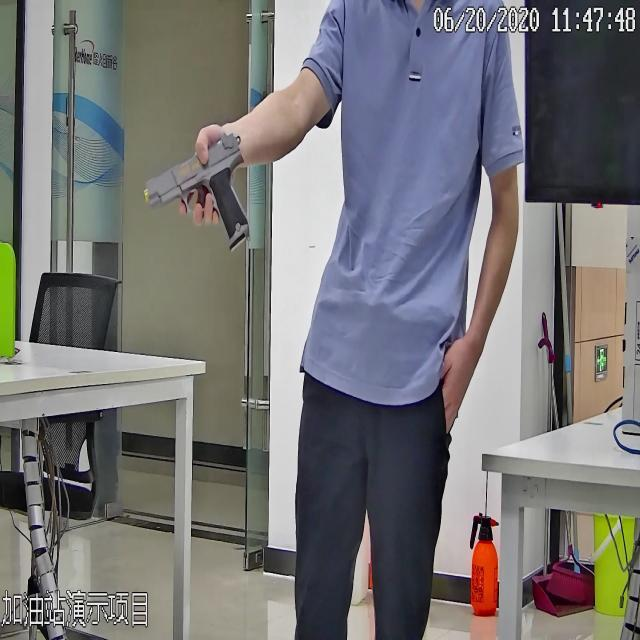gun-knife-thesis - v11 Yolov5 augmented: (141, 128, 251, 247)
